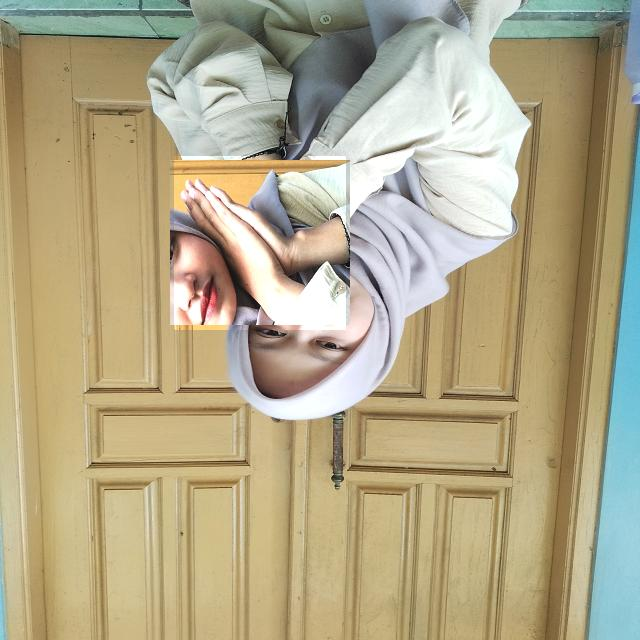tidur: (174, 156, 346, 330)
